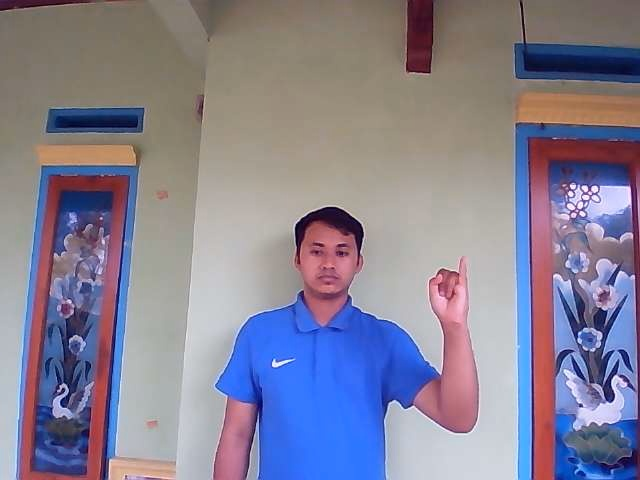I: (428, 256, 469, 316)
